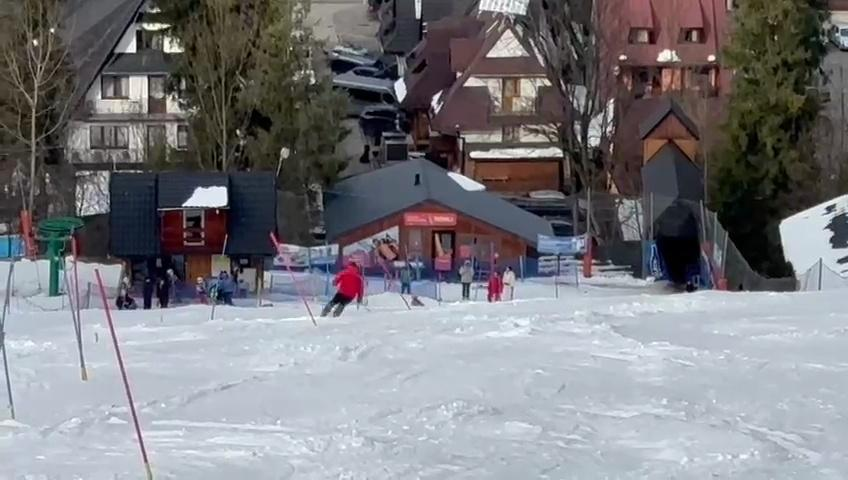gate: (91, 268, 169, 480), (49, 240, 93, 386), (190, 229, 244, 335), (269, 223, 318, 333), (4, 261, 28, 425)
